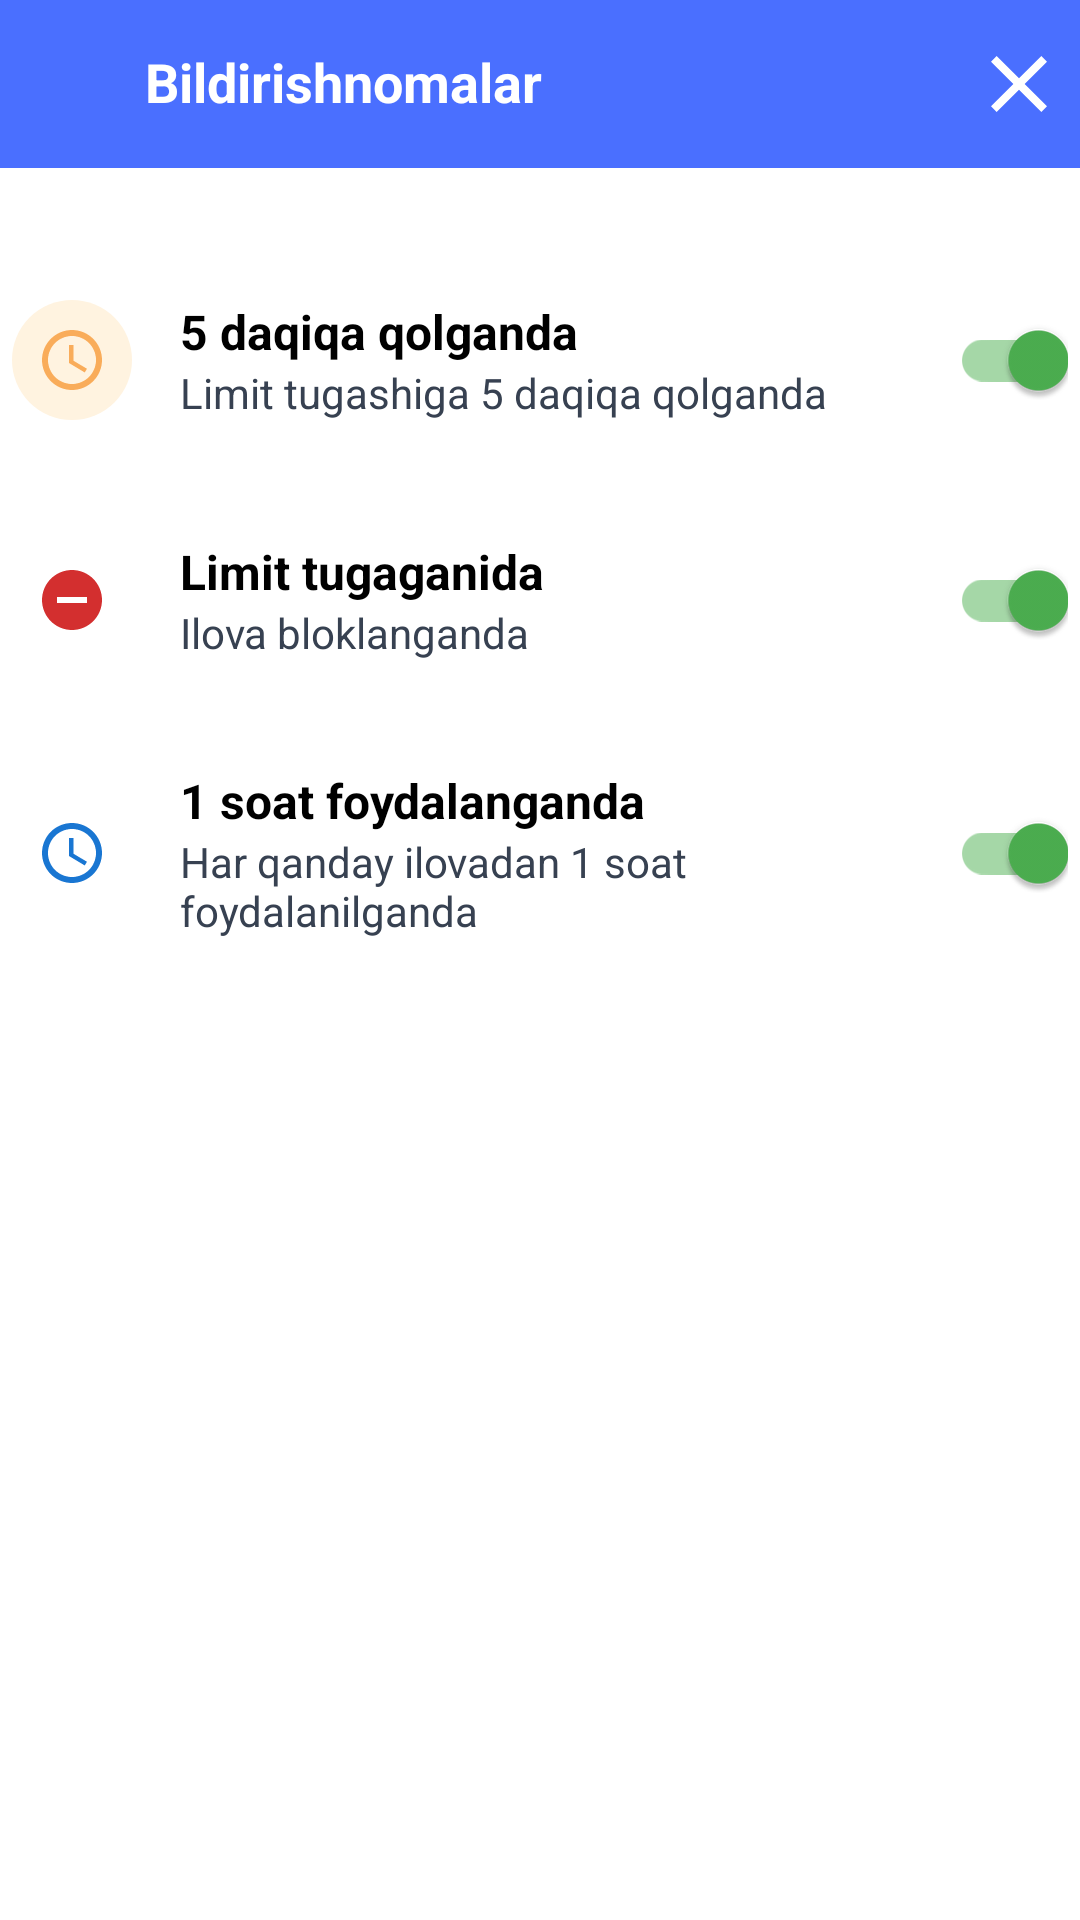

Named icons in this screenshot (1080x1920) and their bounding boxes, (x1, y1, x2, y2):
block: (42, 570, 102, 630)
close: (991, 56, 1047, 112)
schedule: (42, 823, 102, 883)
